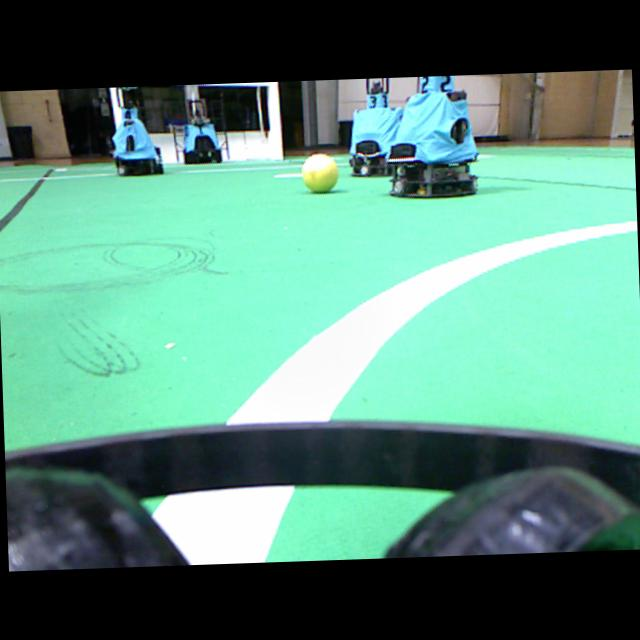ball: (302, 153, 337, 191)
goal: (267, 81, 282, 159)
